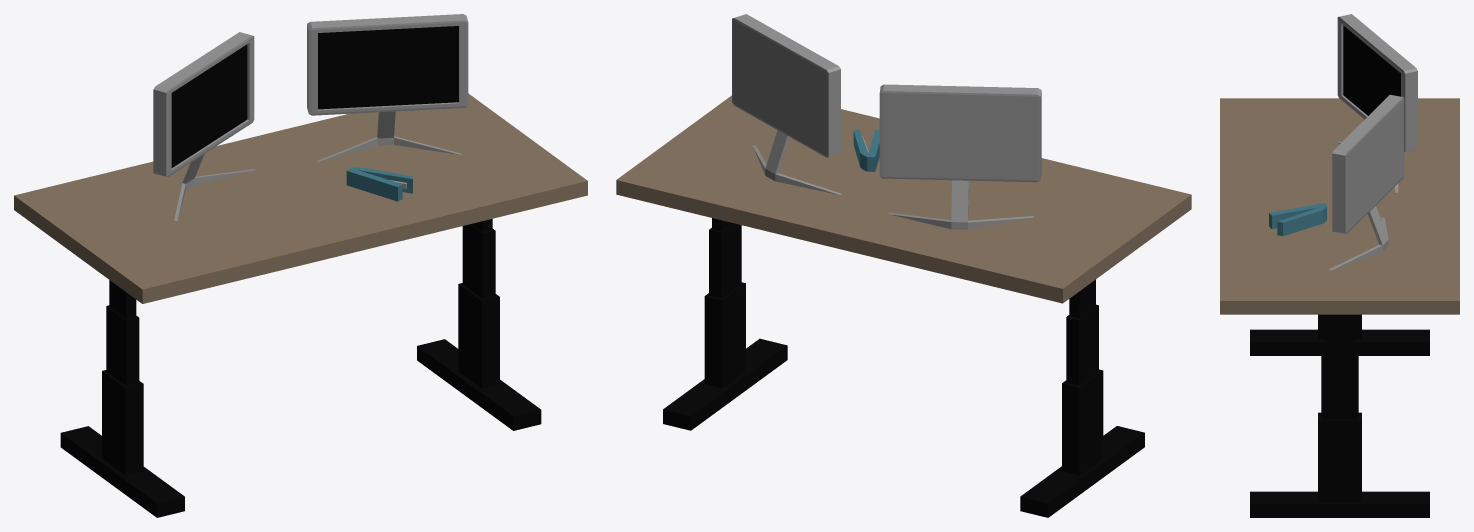
The model's file is StandingDeskHigh.glb.
The picture shows the model from 3 angles, left to right: view 1: azimuth 30°, elevation 25°; view 2: azimuth 150°, elevation 25°; view 3: azimuth 270°, elevation 25°; orthographic projection. The views are drawn at different scales.
Visible parts, largest first — view 1: StandingDesk-col; view 2: StandingDesk-col; view 3: StandingDesk-col.
Boxes of the visible parts, x1,y1,x2,y2 form: StandingDesk-col: (14, 14, 587, 517); StandingDesk-col: (616, 14, 1191, 517); StandingDesk-col: (1220, 14, 1459, 517).
Bounding box in the file's own units: 6.4 × 5.2 × 3.2.
Materials: 1 (1 with a texture image).
